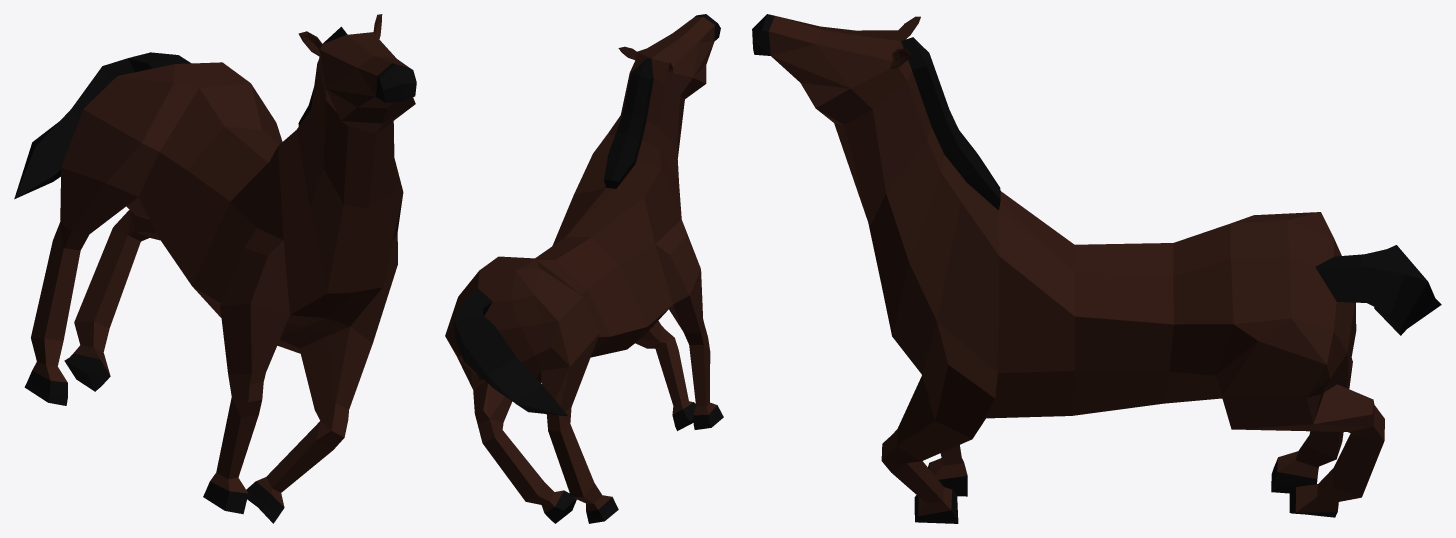
The model's file is Horse_000009.obj.
3 views of the same model, side by side, from view 1: azimuth 30°, elevation 25°; view 2: azimuth 150°, elevation 25°; view 3: azimuth 270°, elevation 25° (orthographic). The views are drawn at different scales.
Visible parts, largest first — view 1: Horse_Cylinder; view 2: Horse_Cylinder; view 3: Horse_Cylinder.
Part boxes in pixels (x1,y1,x2,y2): Horse_Cylinder: (14,14,416,523); Horse_Cylinder: (445,14,723,523); Horse_Cylinder: (752,14,1441,523).
Bounding box in the file's own units: 3.39 × 7.39 × 8.61.
